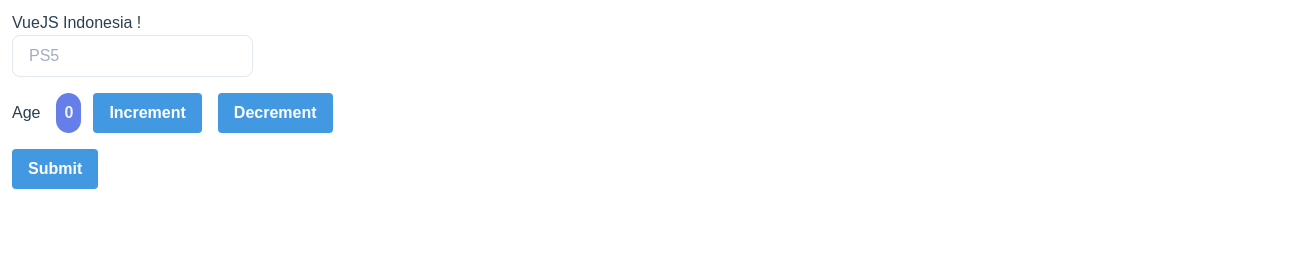
Form.vue › should show error section if submit button is clicked while condition is not met
Click the button "Submit" at point(55, 169), box [12,149,98,189]
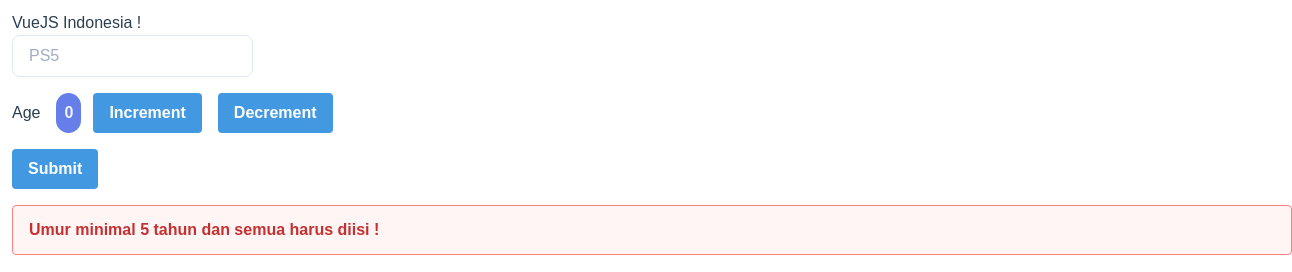
Expected: the message "Umur minimal 5 tahun dan semua harus diisi !" is shown, [12,205,1291,255]
